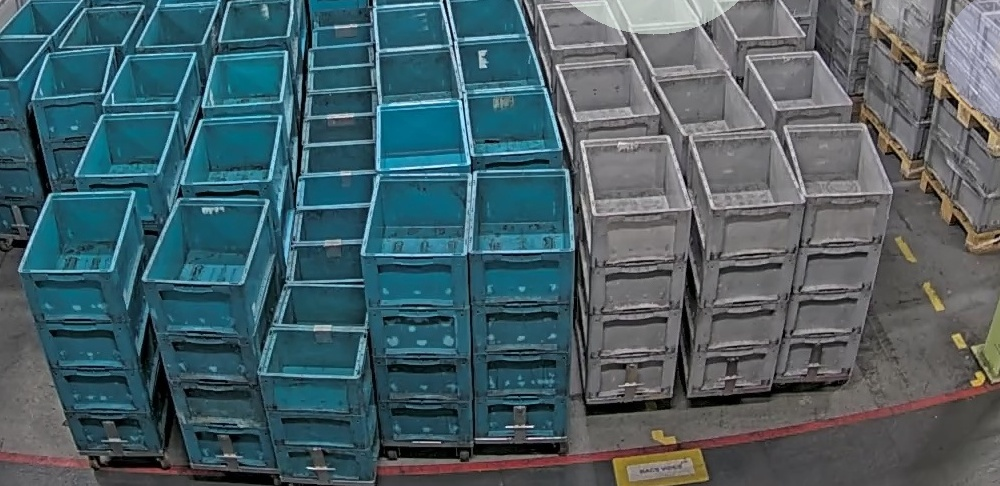4G: (677, 127, 805, 394), (771, 121, 895, 381), (575, 132, 694, 402)
B4: (17, 189, 171, 453), (140, 197, 286, 469), (358, 172, 474, 444), (465, 167, 576, 441), (28, 44, 117, 193)
B8: (256, 282, 379, 483)
